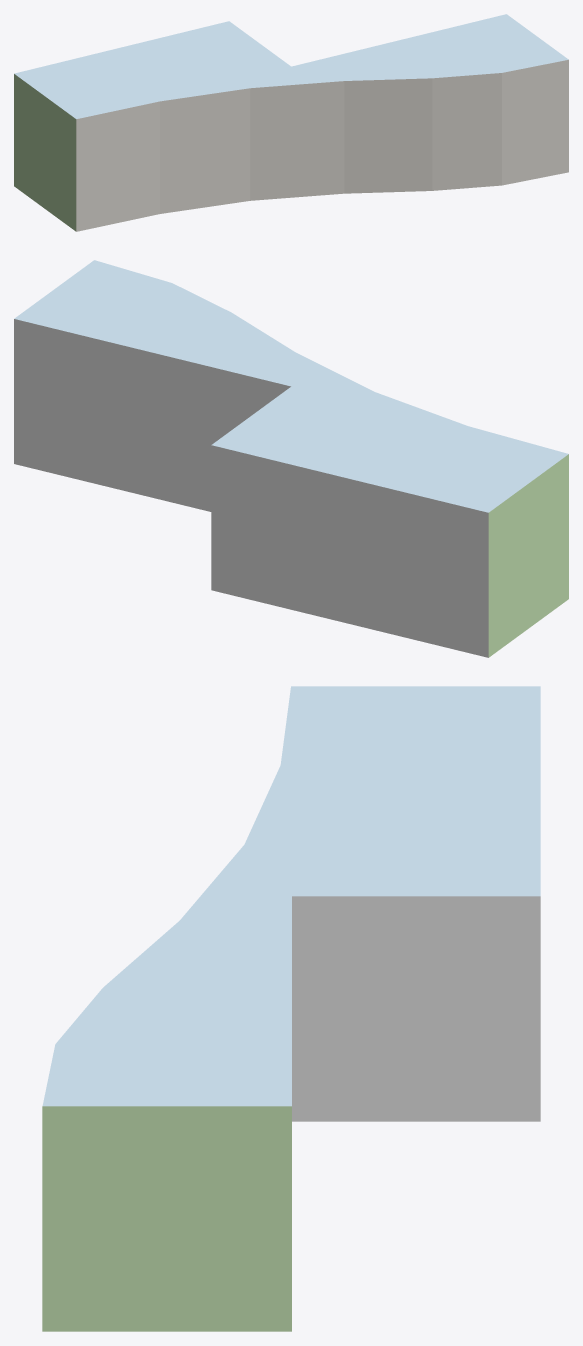
File: Wall_Esse_3x4_Mid.fbx
The picture shows the model from 3 angles, top to bottom: view 1: azimuth 30°, elevation 25°; view 2: azimuth 150°, elevation 25°; view 3: azimuth 270°, elevation 25°; orthographic projection. The views are drawn at different scales.
Visible parts, largest first — view 1: Wall_Esse_3x4_Mid; view 2: Wall_Esse_3x4_Mid; view 3: Wall_Esse_3x4_Mid.
Part boxes in pixels (bbox=[...]): Wall_Esse_3x4_Mid: bbox=[14, 14, 568, 231]; Wall_Esse_3x4_Mid: bbox=[14, 260, 568, 657]; Wall_Esse_3x4_Mid: bbox=[42, 686, 540, 1331].
Size of the model in its own units: 400 by 100 by 200.
